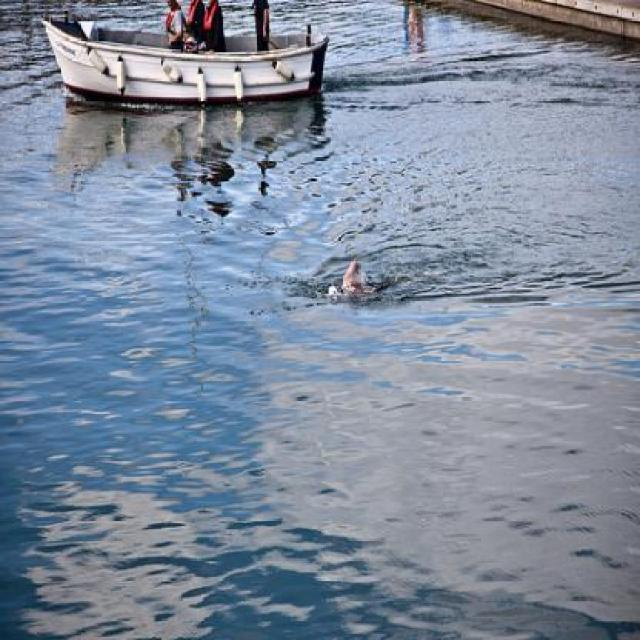ship: (35, 9, 332, 112)
